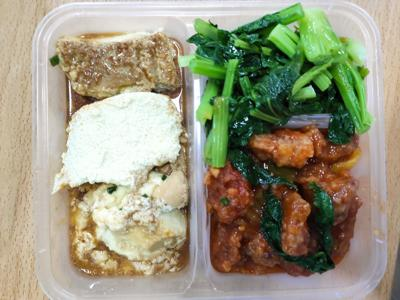df: (55, 25, 196, 285)
wz: (199, 132, 372, 275)
ymc: (188, 7, 377, 138)
